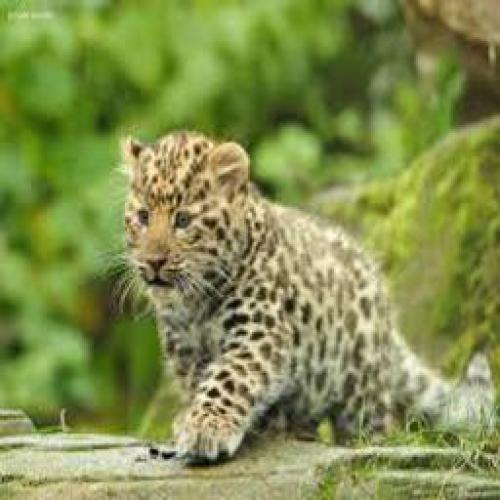amur_leopard-endangered: (115, 126, 494, 455)
